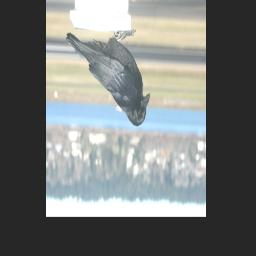Crow: (65, 29, 151, 128)
